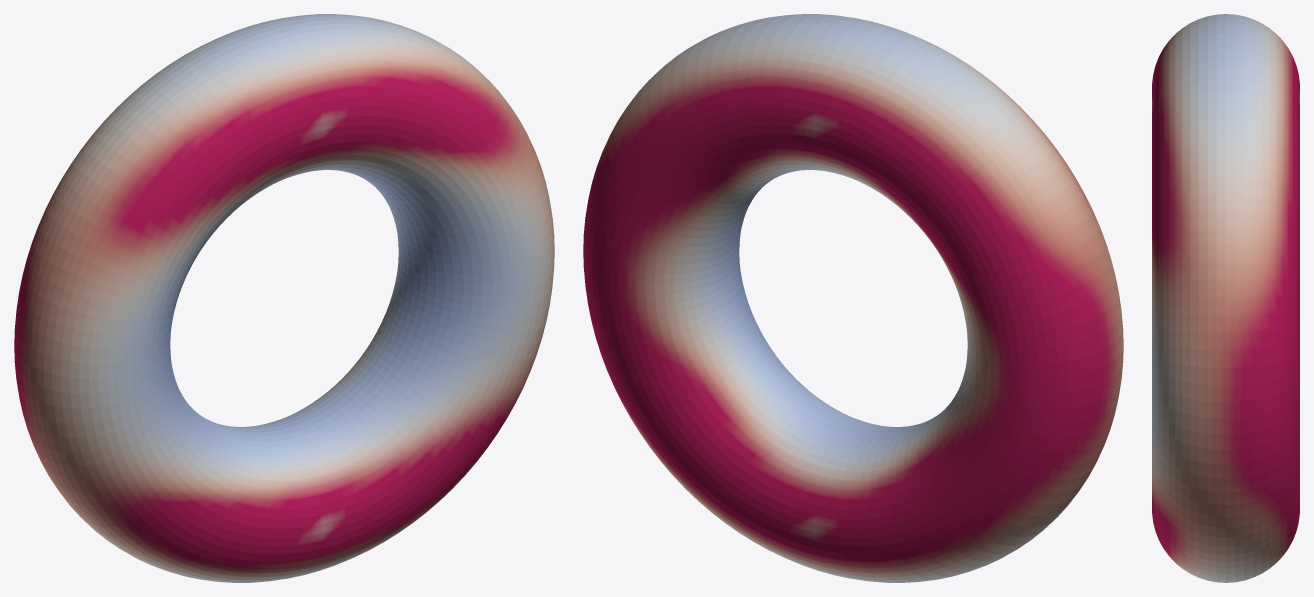
The picture shows the model from 3 angles, left to right: view 1: azimuth 30°, elevation 25°; view 2: azimuth 150°, elevation 25°; view 3: azimuth 270°, elevation 25°; orthographic projection. The views are drawn at different scales.
Parts seen in each view (by area): view 1: world; view 2: world; view 3: world.
Part boxes in pixels (bbox=[...]): world: bbox=[14, 14, 554, 582]; world: bbox=[583, 14, 1123, 582]; world: bbox=[1152, 14, 1299, 582].
Bounding box in the file's own units: 26.13 × 26.13 × 6.79.
